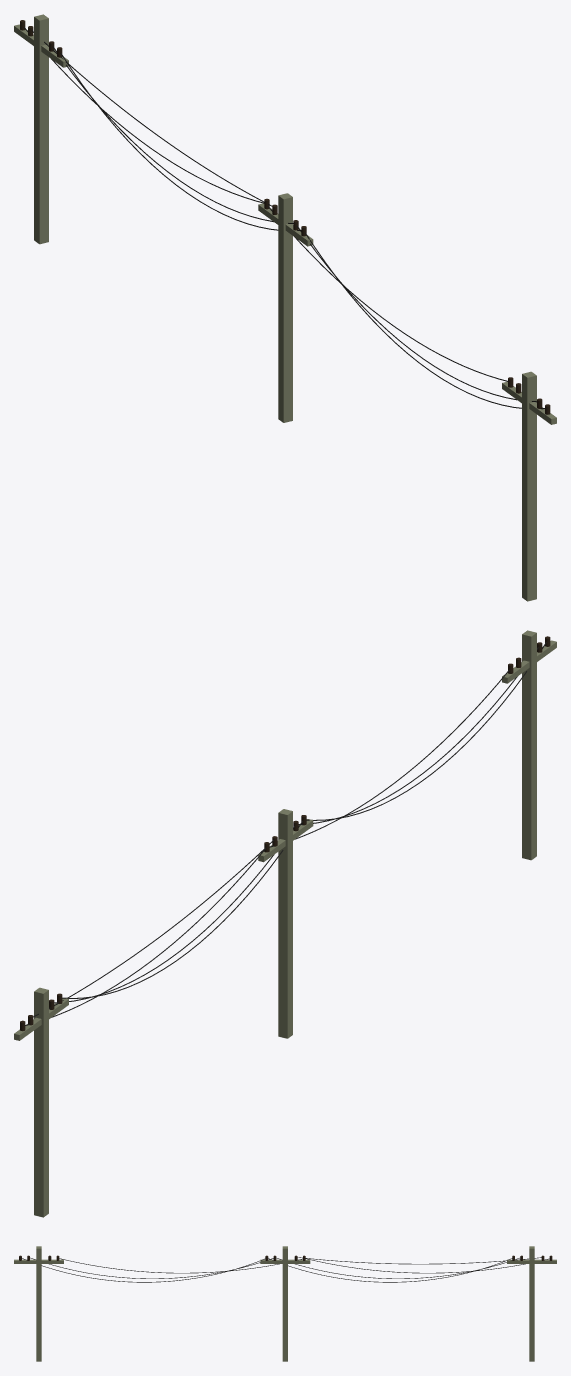
File: 08 Electric pole.FBX
3 renders of one model, top to bottom at view 1: azimuth 30°, elevation 25°; view 2: azimuth 150°, elevation 25°; view 3: azimuth 270°, elevation 25°, orthographic. The views are drawn at different scales.
Visible parts, largest first — view 1: Electric pole; view 2: Electric pole; view 3: Electric pole.
Part boxes in pixels (x1,y1,x2,y2): Electric pole: (14, 14, 556, 601); Electric pole: (14, 630, 556, 1217); Electric pole: (14, 1246, 556, 1361).
Size of the model in its own units: 100 by 2268 by 9874.
